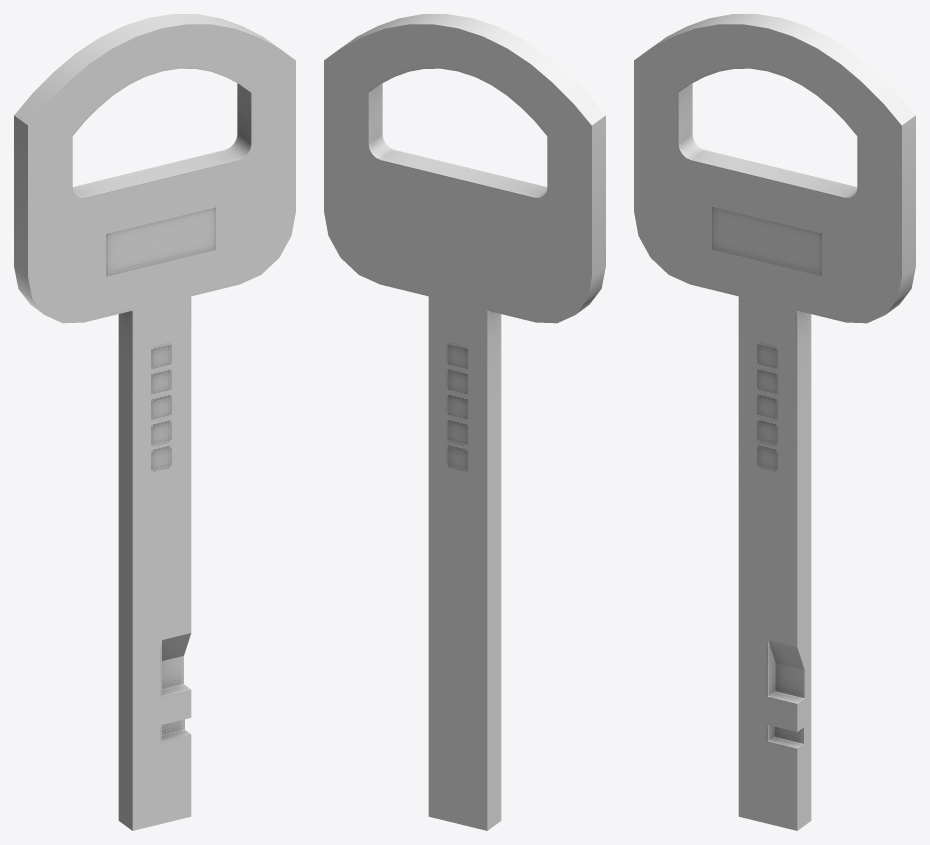
The model's file is scrap_key.glb.
3 views of the same model, side by side, from view 1: azimuth 30°, elevation 25°; view 2: azimuth 150°, elevation 25°; view 3: azimuth 330°, elevation 25° (orthographic).
Parts seen in each view (by area): view 1: key_low; view 2: key_low; view 3: key_low.
Boxes of the visible parts, box(x1,y1,x2,y2) form: key_low: box(14, 14, 295, 830); key_low: box(324, 14, 605, 830); key_low: box(634, 14, 915, 830).
Bounding box in the file's own units: 0.0246 × 0.07 × 0.00223.
Materials: 1 (1 with a texture image).
